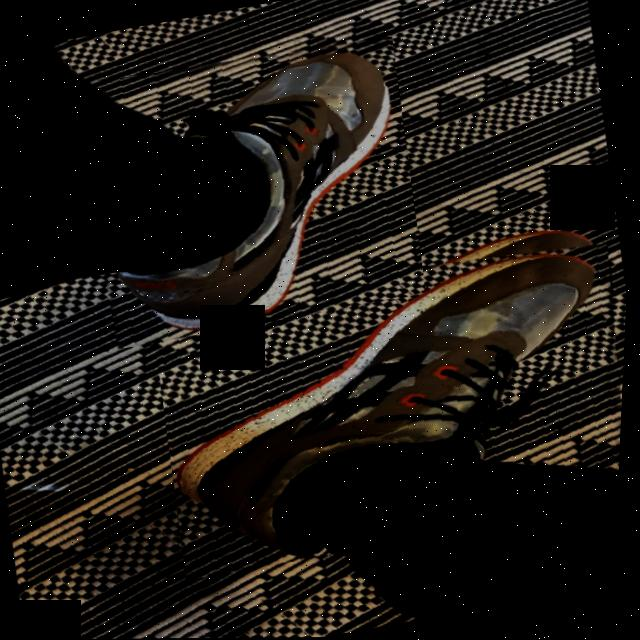shoe: (142, 216, 632, 580), (60, 26, 437, 352)
